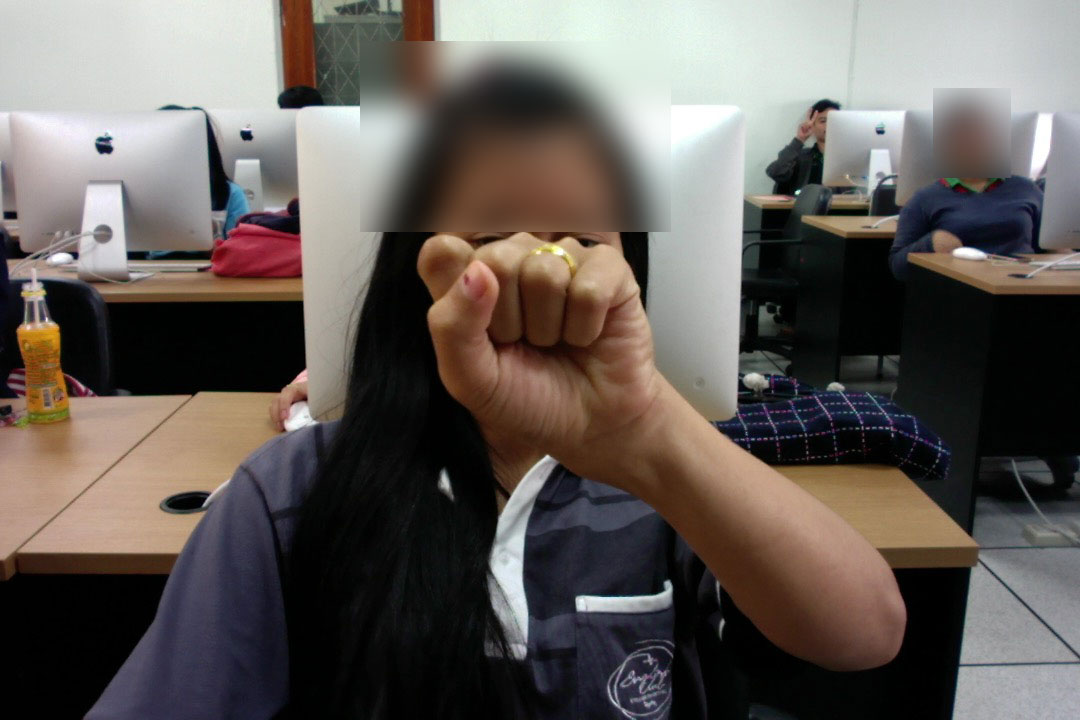sor: (411, 223, 664, 464)
